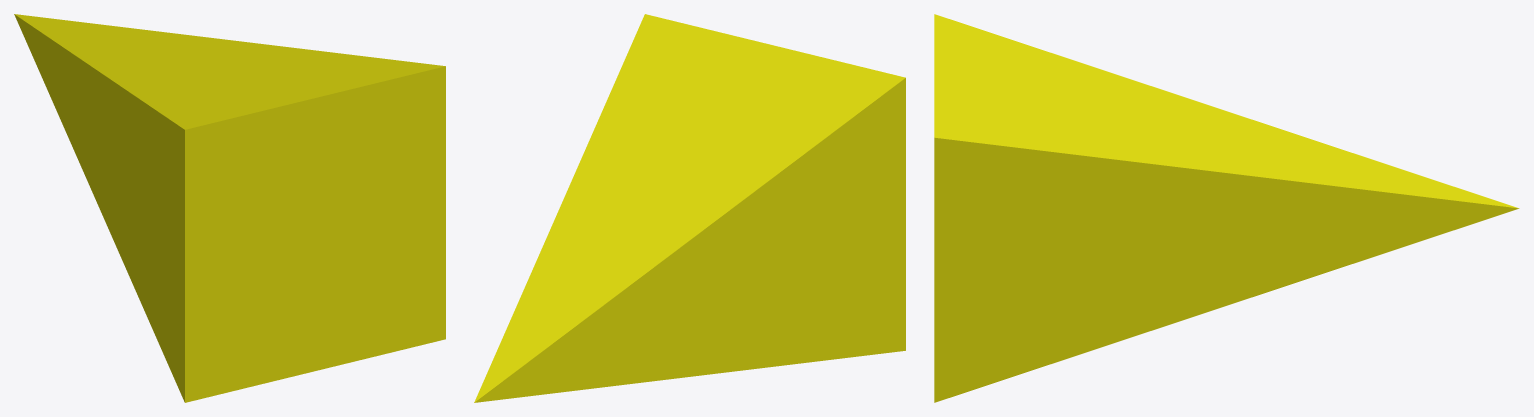
File: Señal.fbx
3 renders of one model, left to right at view 1: azimuth 30°, elevation 25°; view 2: azimuth 150°, elevation 25°; view 3: azimuth 270°, elevation 25°, orthographic. The views are drawn at different scales.
Parts seen in each view (by area): view 1: Cube; view 2: Cube; view 3: Cube.
Boxes of the visible parts, x1,y1,x2,y2 form: Cube: (14,14,445,402); Cube: (474,14,905,402); Cube: (934,14,1519,402).
Size of the model in its own units: 100 by 100 by 200.
